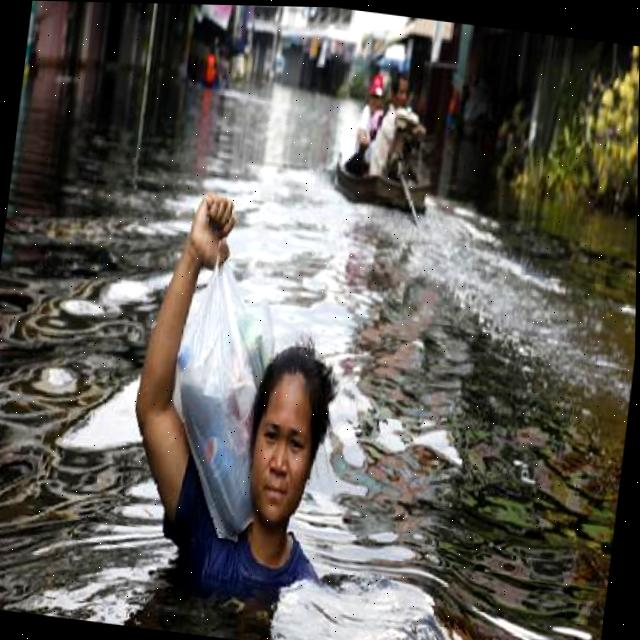civilian: (102, 175, 384, 616), (346, 58, 396, 157), (379, 60, 416, 121)
